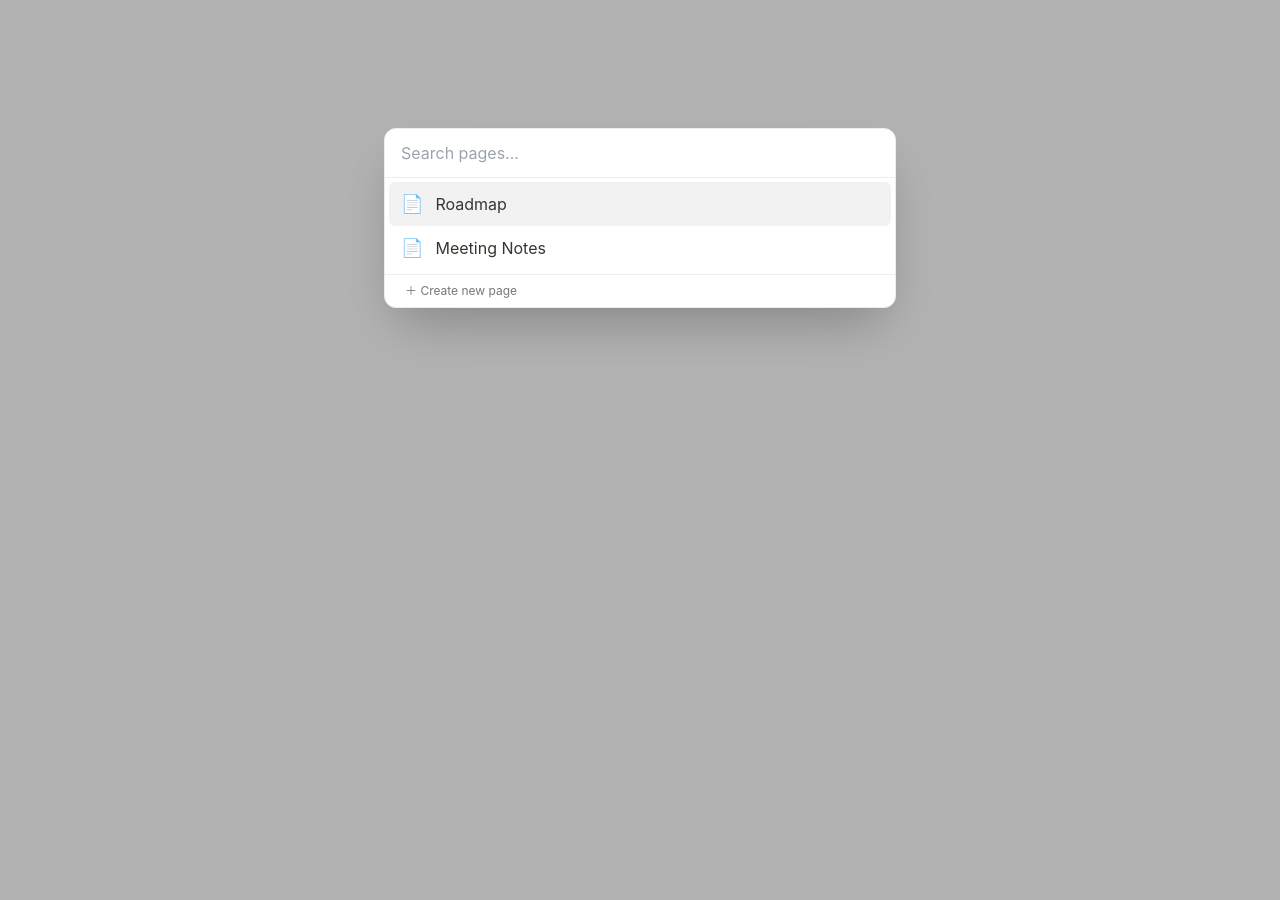
QuickFind › matches pages by block content
This screenshot has width=1280, height=900.
Step 1. Type "budget" into the field with placeholder "Search pages..." → (640, 154), box [385,129,895,178]
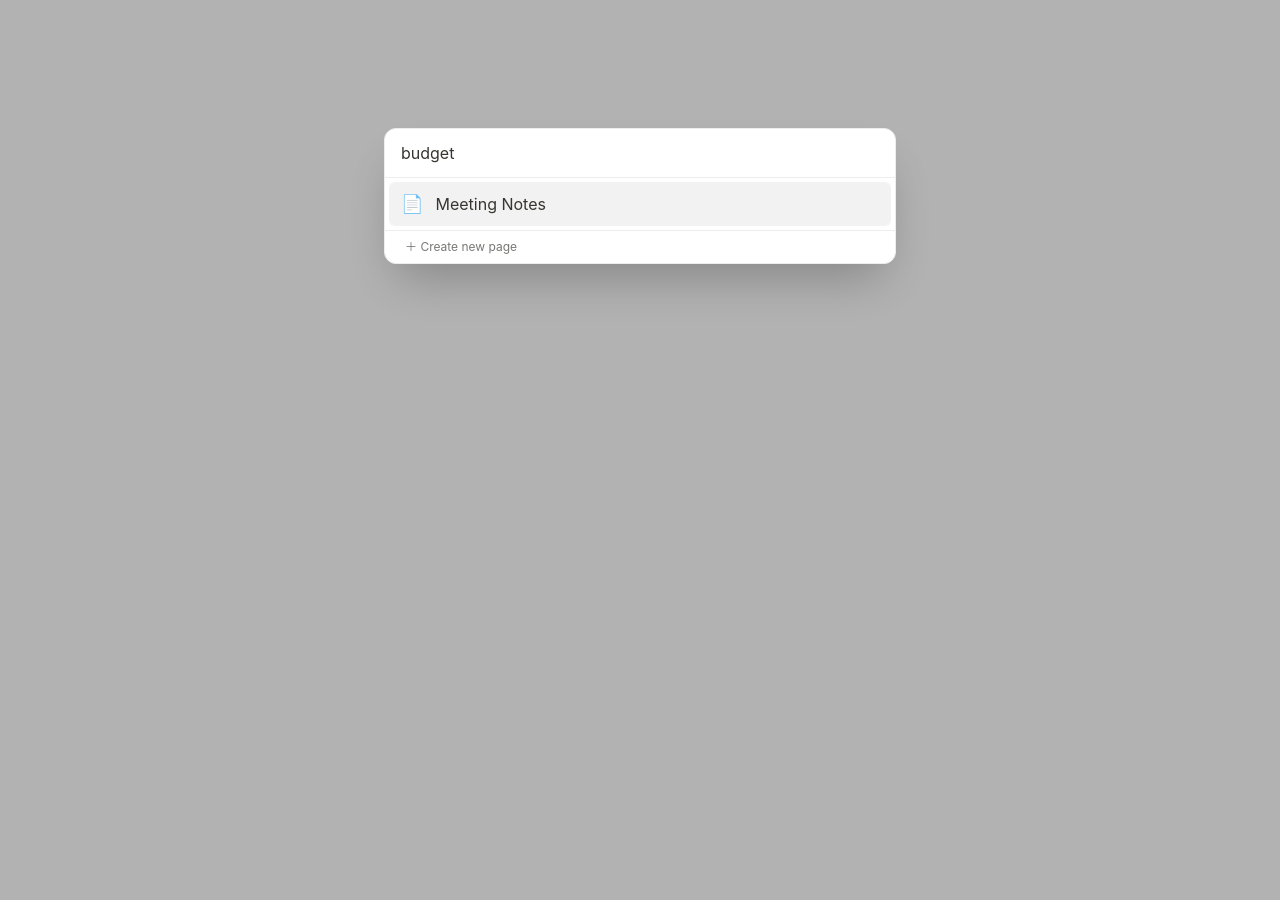
Expected: the text "Meeting Notes" is shown, [436,194,546,214]
Expected: the button "Roadmap" is gone
